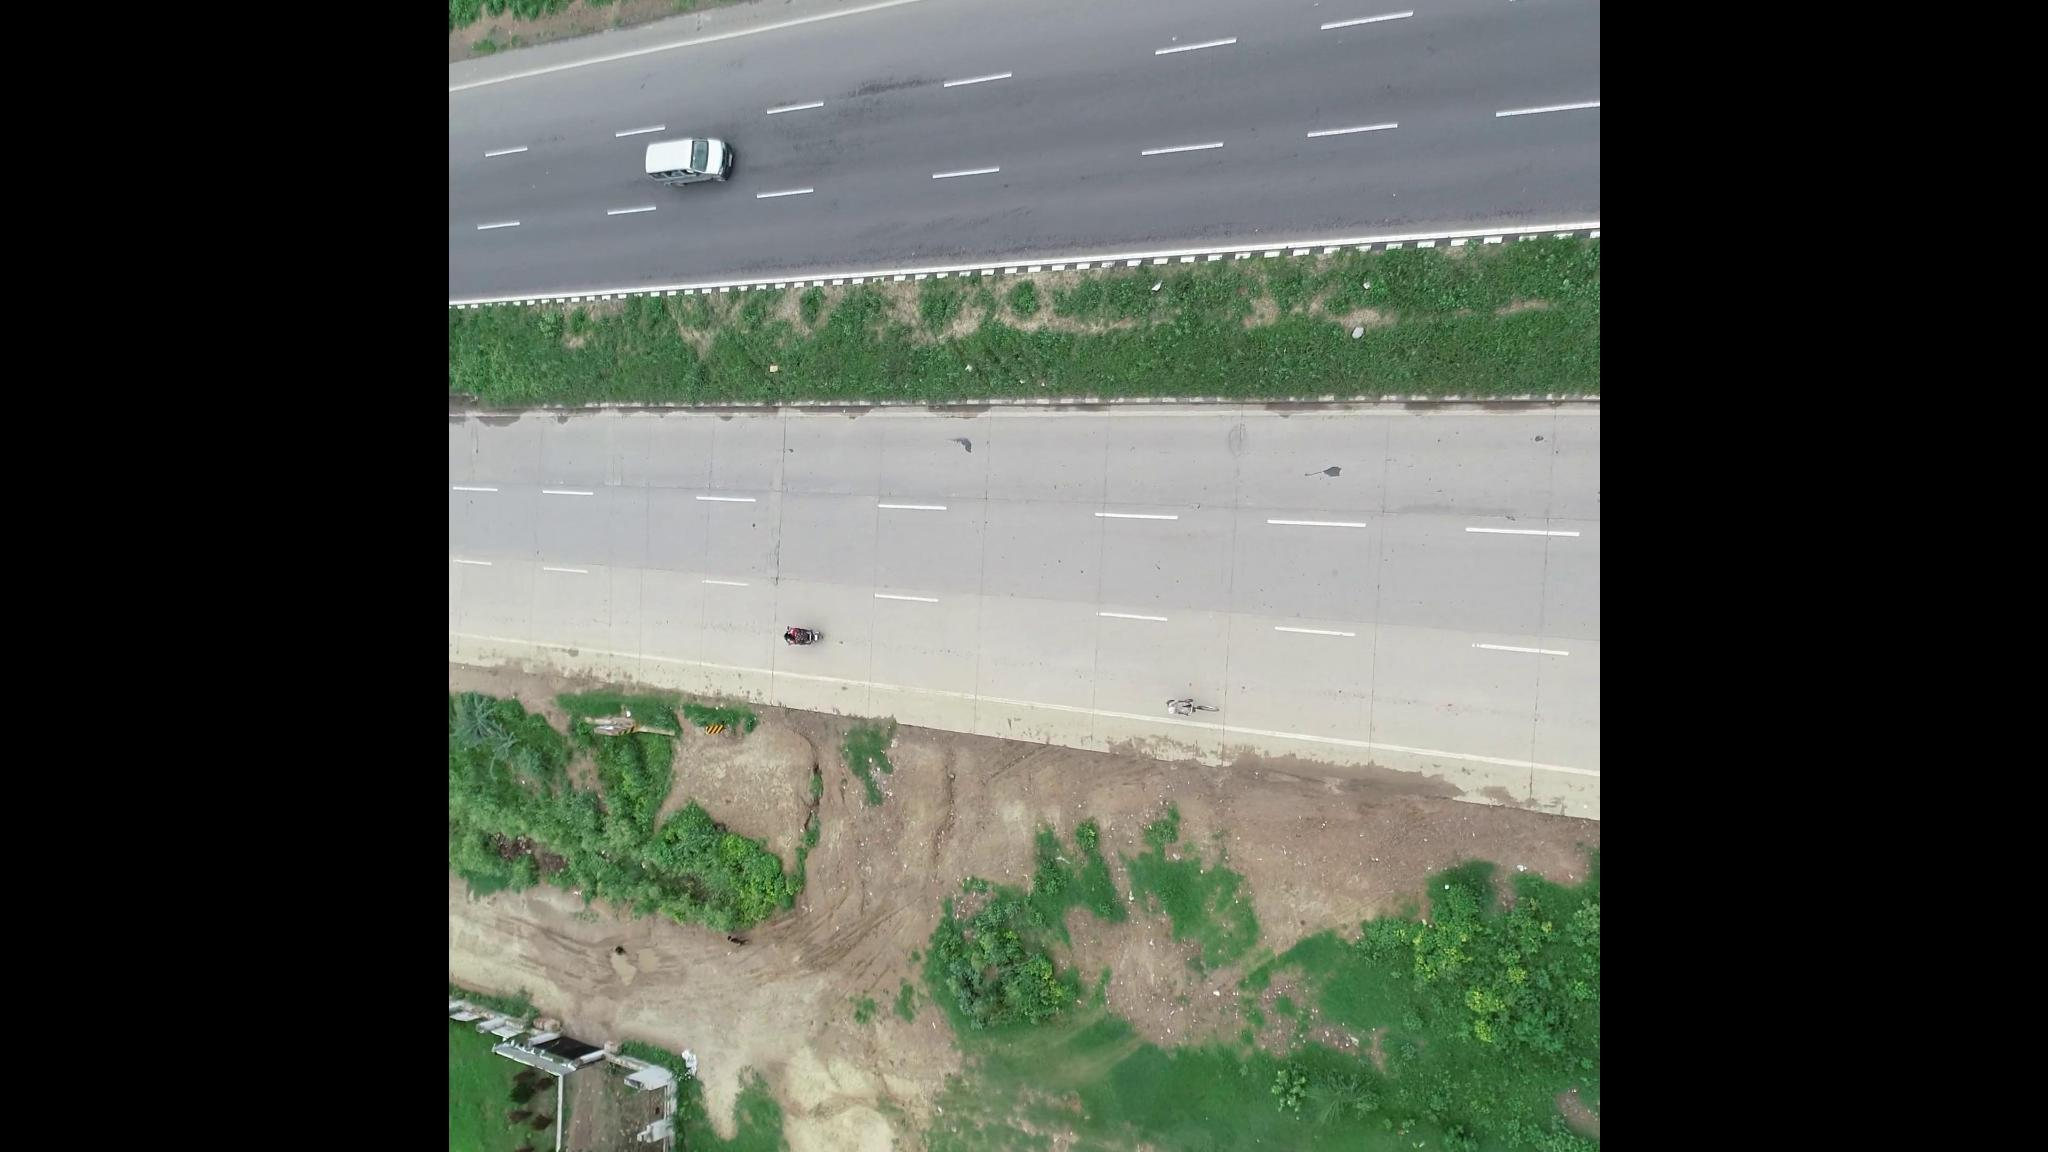Ravelling: (809, 66, 944, 136)
